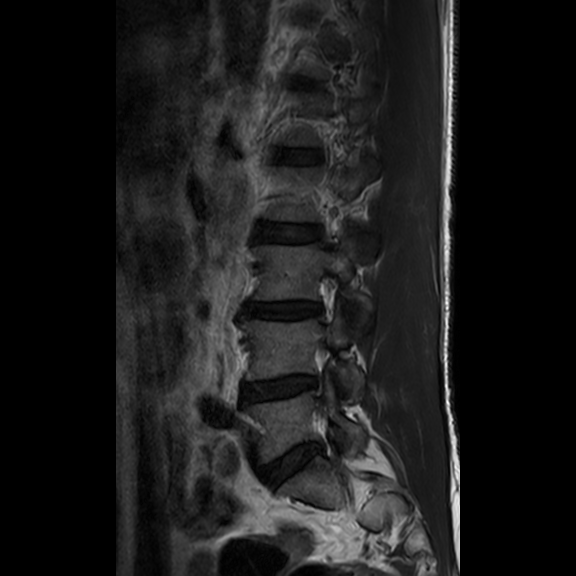LFS0: (303, 266, 348, 329)
